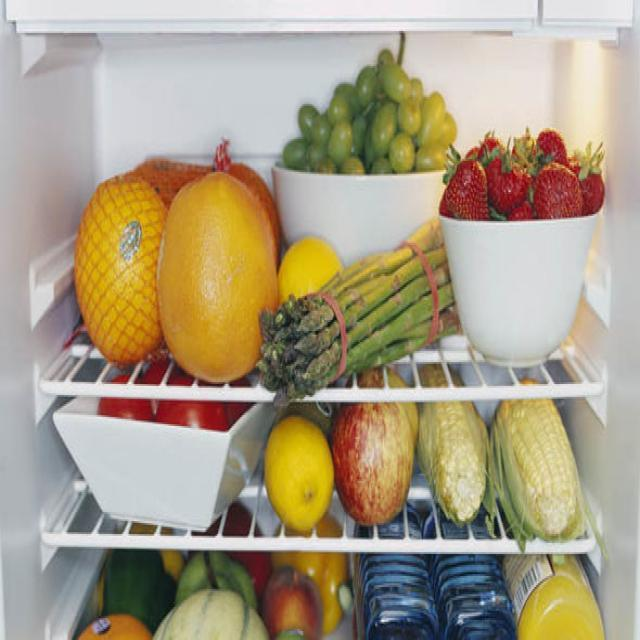Orange: (155, 170, 279, 382), (73, 174, 166, 365), (263, 414, 334, 531), (72, 612, 153, 639)
